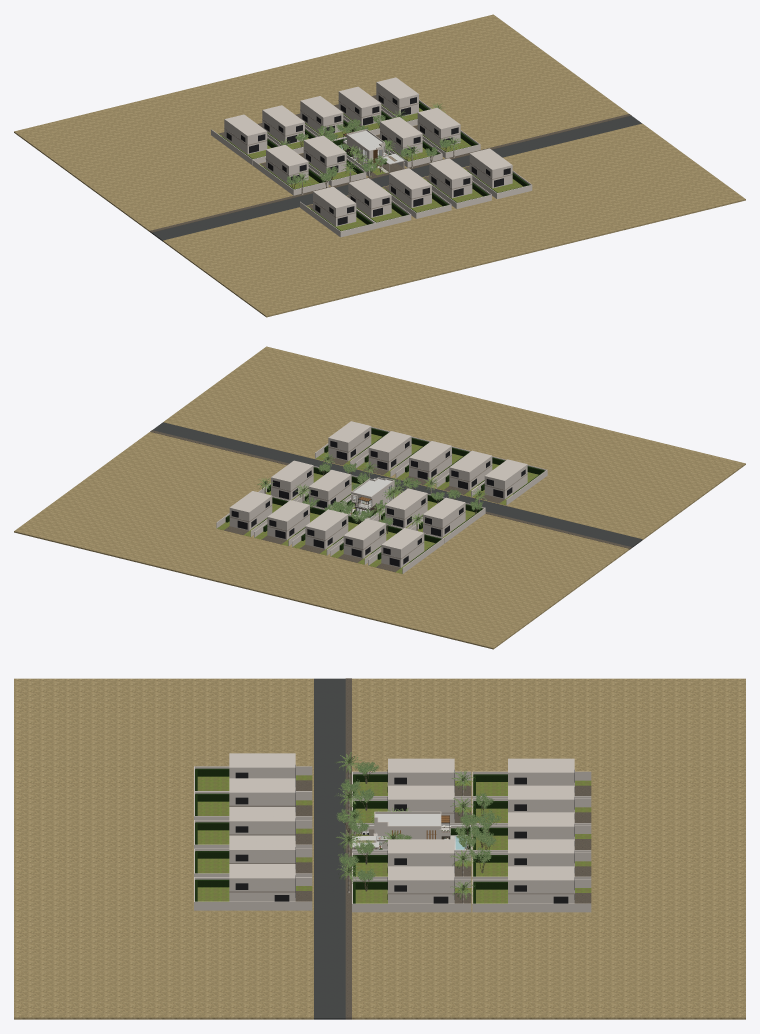
Rendered from villa.glb.
3 views of the same model, one above another, from view 1: azimuth 30°, elevation 25°; view 2: azimuth 150°, elevation 25°; view 3: azimuth 270°, elevation 25° (orthographic). The views are drawn at different scales.
Visible parts, largest first — view 1: far, site, roof; view 2: far, roof; view 3: far, roof, first, site.
Boxes of the visible parts, x1,y1,x2,y2 form: far: [14, 14, 745, 317]; site: [332, 137, 404, 176]; roof: [346, 129, 385, 152]; far: [14, 346, 745, 649]; roof: [351, 477, 394, 498]; far: [14, 678, 745, 1019]; roof: [374, 811, 441, 829]; first: [374, 815, 450, 841]; site: [352, 825, 471, 852].
Bounding box in the file's own units: 190 × 10.03 × 173.
Materials: 69 (33 with a texture image).
